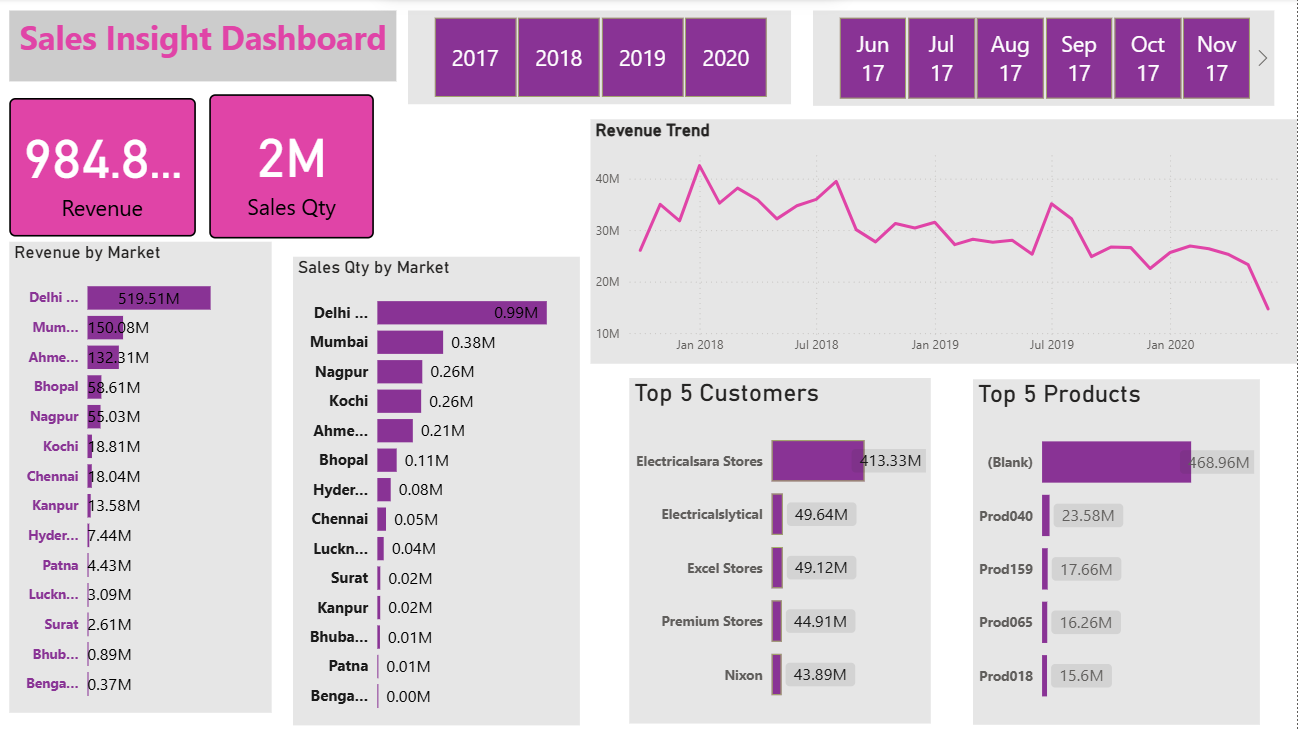

The dashboard page shown, as its layout file describes it:
{"tool":"powerbi","page":{"name":" Sales_insight","canvas":[1280,720],"ordinal":0},"visuals":[{"type":"card","fields":{"Values":["BaseMeasure.Revenue"]},"box":[16,98.2,182.8,136.2],"z":0},{"type":"card","fields":{"Values":["BaseMeasure.Sales Qty"]},"box":[212.7,94.7,161.9,141.3],"z":1000},{"type":"barChart","title":"Revenue by Market","fields":{"Y":["BaseMeasure.Revenue"],"Category":["sales markets.markets_name"]},"box":[16,254,257.7,447.9],"z":2000},{"type":"barChart","title":"Sales Qty by Market","fields":{"Y":["BaseMeasure.Sales Qty"],"Category":["sales markets.markets_name"]},"box":[295,253.9,281.3,459.7],"z":3000},{"type":"slicer","fields":{"Values":["sales date.year"]},"box":[407.5,12.3,376,91.9],"z":4000},{"type":"slicer","fields":{"Values":["sales date.cy_date"]},"box":[805.5,12.3,452.8,93.3],"z":5000},{"type":"barChart","title":"Top 5 Customers","fields":{"Y":["BaseMeasure.Revenue"],"Category":["sales customers.custmer_name"]},"box":[624.4,373.2,296.4,338.9],"z":6000},{"type":"barChart","title":"Top 5 Products","fields":{"Y":["BaseMeasure.Revenue"],"Category":["sales products.product_code"]},"box":[961.9,374.6,281.3,338.9],"z":7000},{"type":"lineChart","title":"Revenue Trend","fields":{"Y":["BaseMeasure.Revenue"],"Category":["sales date.cy_date"]},"box":[585.9,119.4,694.3,240.1],"z":8000},{"type":"textbox","box":[16,12.3,380.4,69.9],"z":9000}]}

Visuals, with their boxes in screenshot pixels (x1, y1, x2, y2), scaled from the page's 1280x720 canvas onto the 1298x731 screenshot:
card - BaseMeasure.Revenue: x1=16, y1=100, x2=202, y2=238
card - BaseMeasure.Sales Qty: x1=216, y1=96, x2=380, y2=240
"Revenue by Market" barChart: x1=16, y1=258, x2=278, y2=713
"Sales Qty by Market" barChart: x1=299, y1=258, x2=584, y2=725
slicer - sales date.year: x1=413, y1=12, x2=795, y2=106
slicer - sales date.cy_date: x1=817, y1=12, x2=1276, y2=107
"Top 5 Customers" barChart: x1=633, y1=379, x2=934, y2=723
"Top 5 Products" barChart: x1=975, y1=380, x2=1261, y2=724
"Revenue Trend" lineChart: x1=594, y1=121, x2=1297, y2=365
textbox: x1=16, y1=12, x2=402, y2=83
